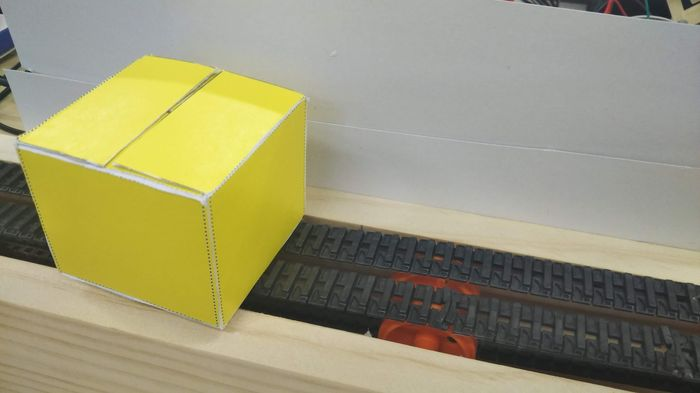box4: (11, 50, 311, 330)
